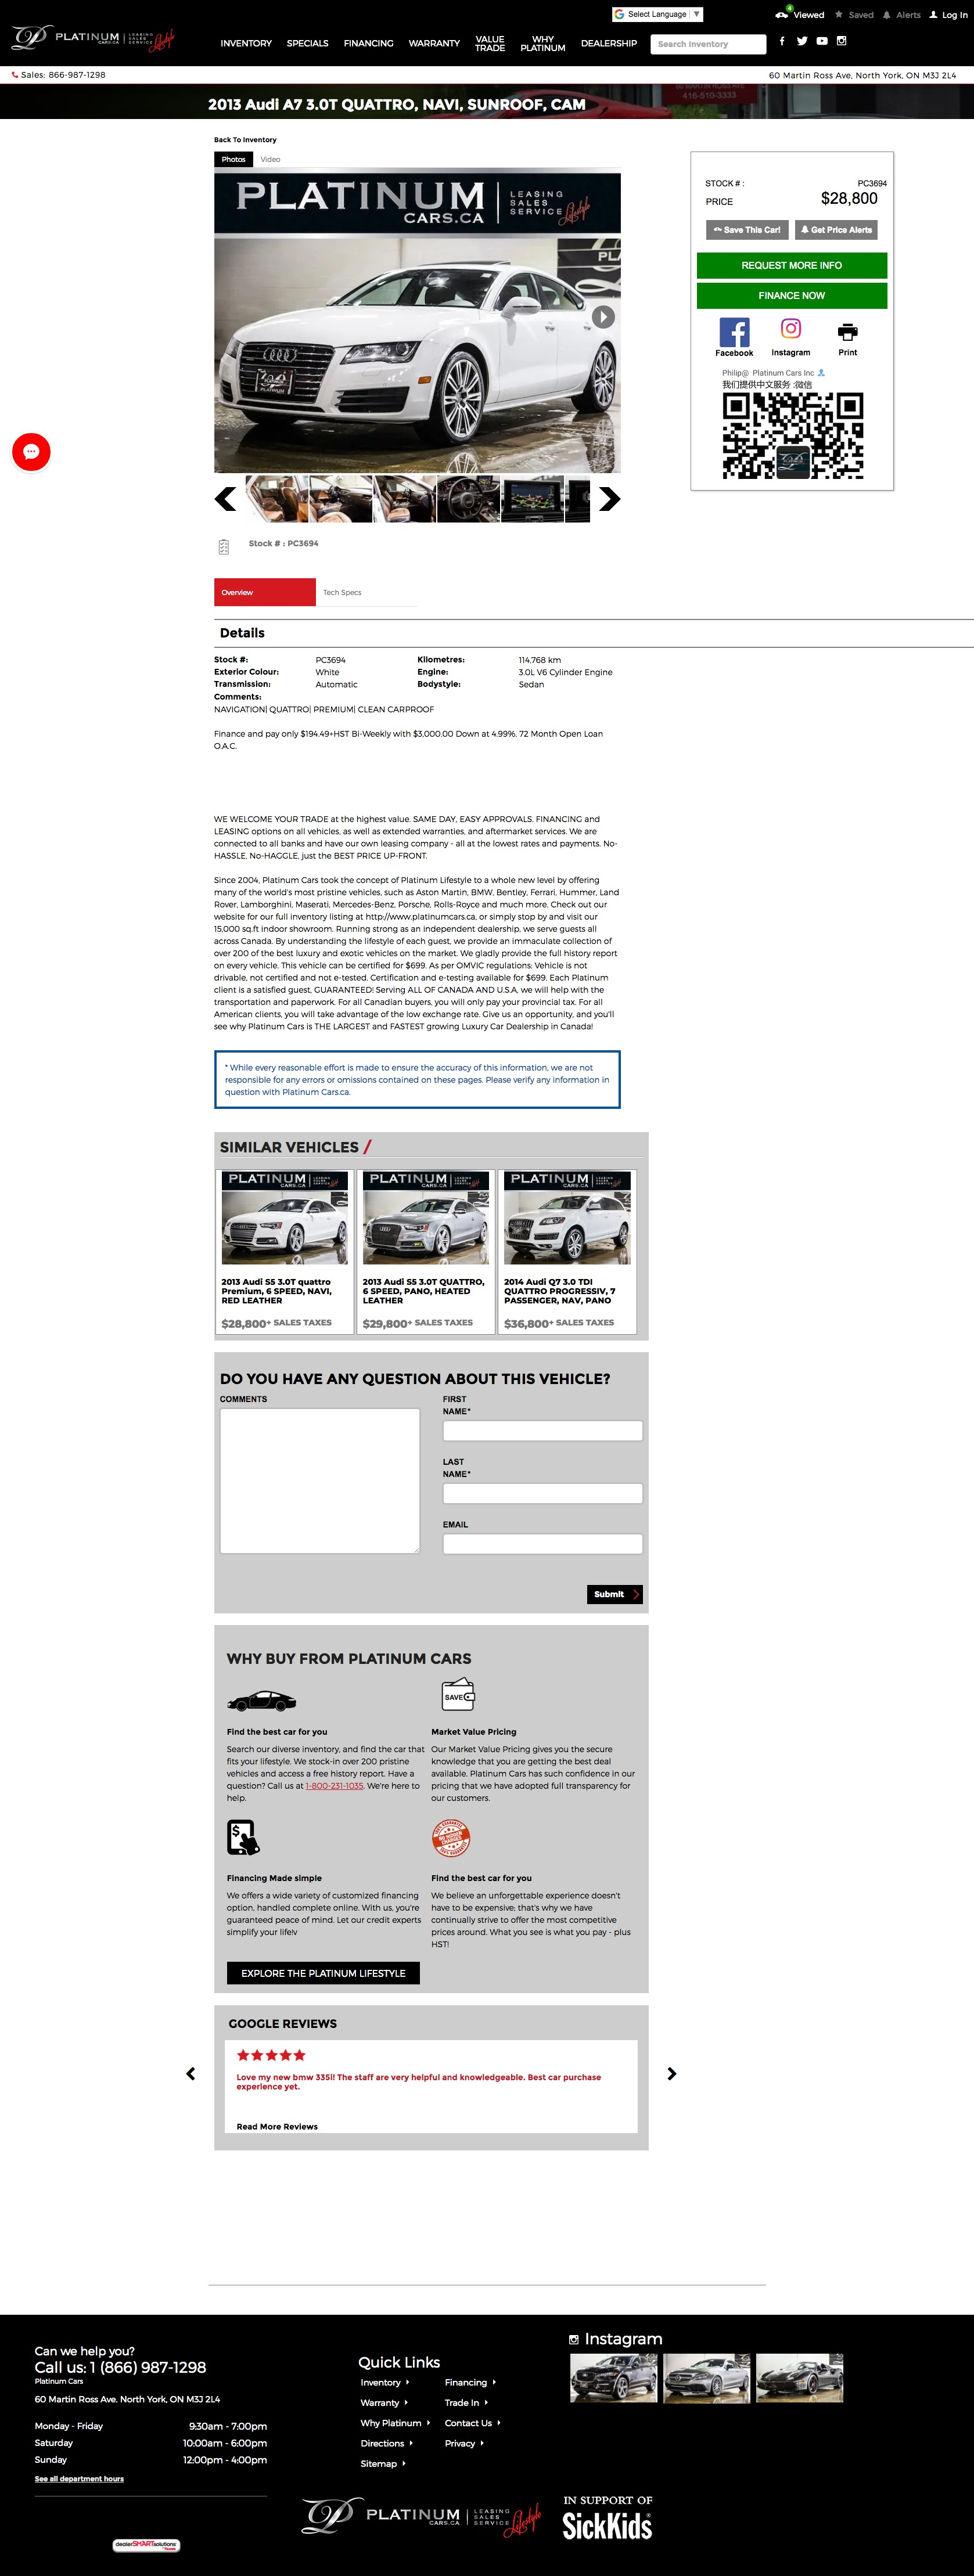car: (598, 486, 623, 513)
